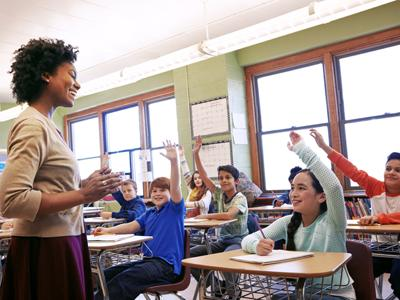study: (238, 128, 349, 255), (87, 138, 183, 239), (190, 134, 246, 218)
